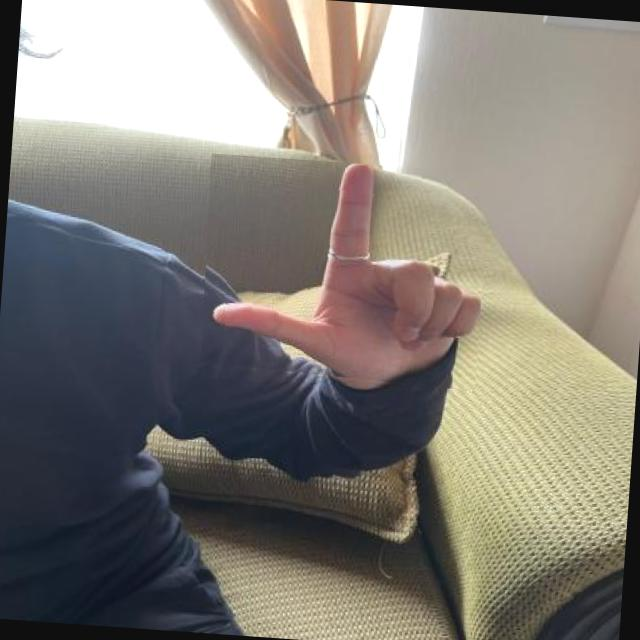L: (196, 154, 490, 392)
